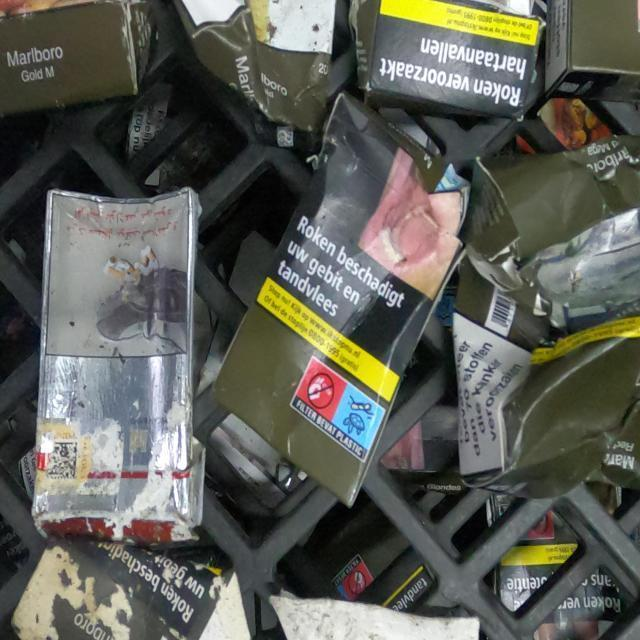Paper: (208, 90, 472, 512), (450, 130, 640, 503), (15, 184, 208, 547), (346, 0, 550, 125), (0, 0, 160, 115), (544, 0, 640, 104)
